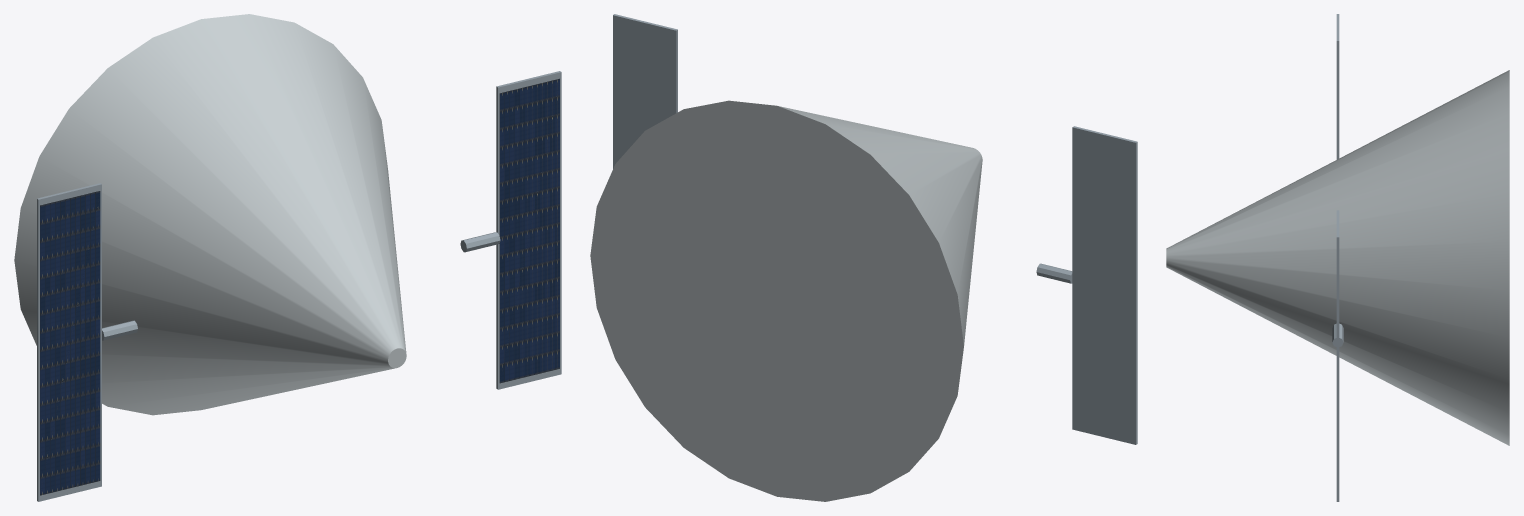
File: ref-nimbus-872.glb
3 views of the same model, side by side, from view 1: azimuth 30°, elevation 25°; view 2: azimuth 150°, elevation 25°; view 3: azimuth 270°, elevation 25° (orthographic). The views are drawn at different scales.
Visible parts, largest first — view 1: Spacecraft body, Photovoltaic laminates (×2), Array frame (×2); view 2: Spacecraft body, Array frame (×2); view 3: Spacecraft body, Array frame (×2).
Part boxes in pixels (x1,y1,x2,y2): Spacecraft body: (14, 14, 406, 415); Photovoltaic laminates (×2): (40, 78, 559, 495); Array frame (×2): (37, 71, 561, 501); Spacecraft body: (590, 100, 982, 501); Array frame (×2): (613, 14, 1137, 444); Spacecraft body: (1166, 70, 1509, 445); Array frame (×2): (1336, 14, 1339, 501).
Bounding box in the file's own units: 4.62 × 3.3 × 3.
3 materials, 1 textured.
